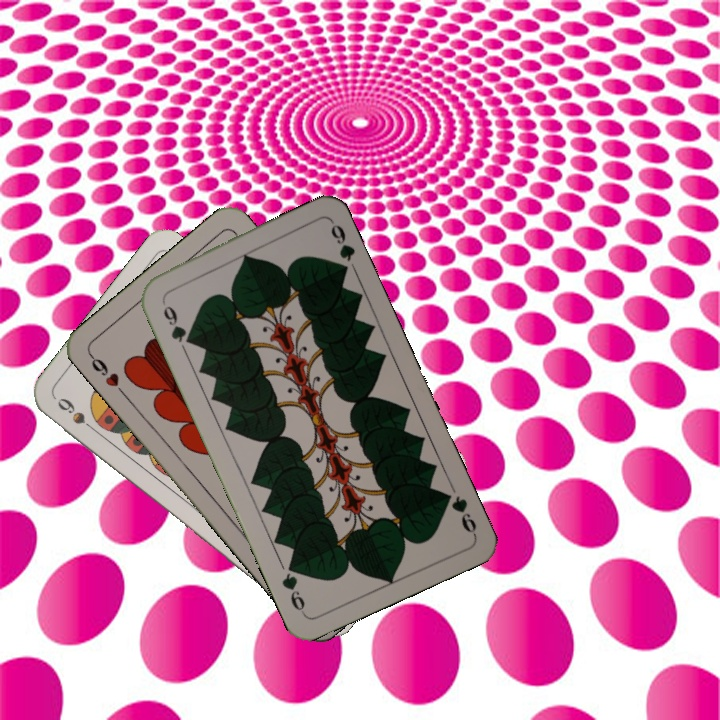G9: (437, 487, 479, 538), (159, 301, 195, 347)
H9: (85, 350, 128, 399)
S9: (53, 393, 102, 437)
